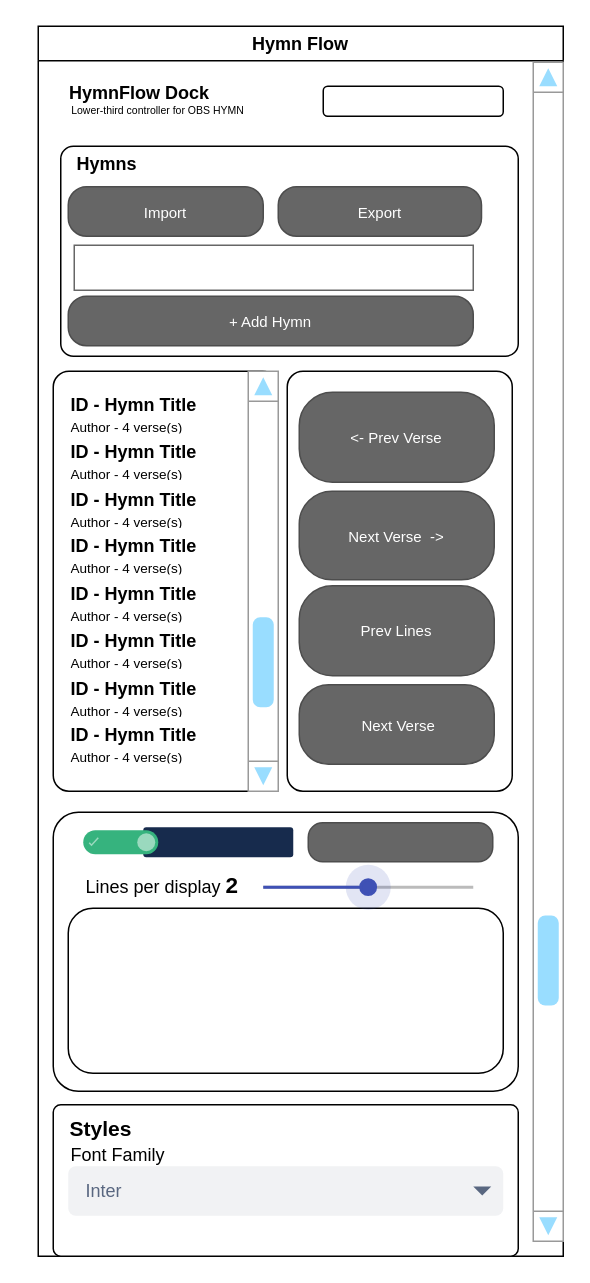
Some shapes in this 590 by 1283 pixel diagram are drawn without their labels. The shapes that lost their labels are listed below. From the top down, each one's box as (x1, y1, x2, y2) in pixels, then its label:
(322, 85, 503, 116): Ready(localStorage)
(73, 244, 473, 290): Search hymns
(142, 826, 292, 856): Display
(307, 821, 493, 862): Reset
(67, 907, 503, 1073): Hymn Previews
